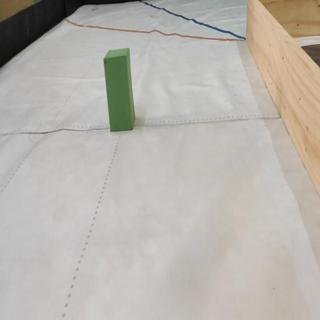greenbox: (103, 49, 135, 131)
